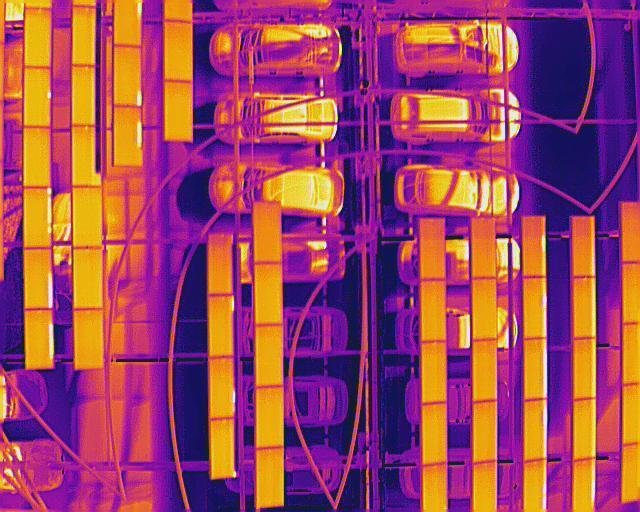Cell: (23, 67, 52, 127)
No-Anomaly: (163, 80, 194, 144), (254, 260, 283, 326), (71, 186, 101, 249), (253, 200, 282, 264), (72, 247, 101, 310), (163, 19, 192, 82), (256, 325, 284, 389), (21, 127, 50, 188), (74, 311, 103, 370), (471, 339, 498, 402), (256, 387, 283, 450), (470, 276, 496, 341), (420, 341, 446, 406), (24, 9, 52, 68), (469, 218, 496, 279), (256, 448, 283, 509), (418, 218, 444, 281), (419, 281, 446, 341), (208, 231, 233, 294), (471, 401, 496, 464), (571, 278, 595, 339), (71, 66, 95, 127), (210, 420, 235, 478), (72, 5, 95, 68), (423, 404, 447, 464), (573, 338, 596, 400), (72, 127, 96, 186), (572, 216, 595, 277), (572, 398, 595, 459), (473, 462, 496, 512), (422, 464, 445, 512)
Unclassified: (23, 186, 52, 249), (22, 249, 52, 308), (24, 310, 54, 369), (208, 356, 236, 419), (113, 106, 141, 169), (114, 44, 141, 108), (207, 294, 234, 357), (522, 217, 547, 280), (522, 278, 547, 340), (523, 339, 547, 400), (525, 400, 546, 463), (572, 459, 595, 512), (526, 460, 546, 512)
